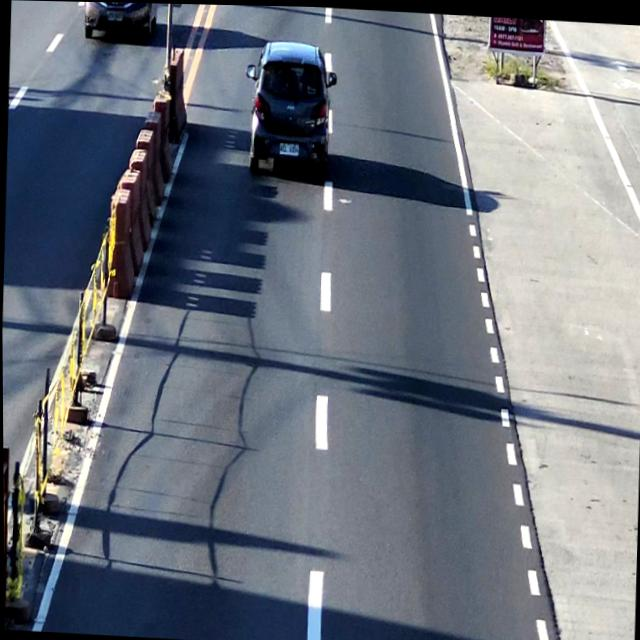Car: (245, 39, 333, 181)
License-Plate: (279, 140, 299, 157)
